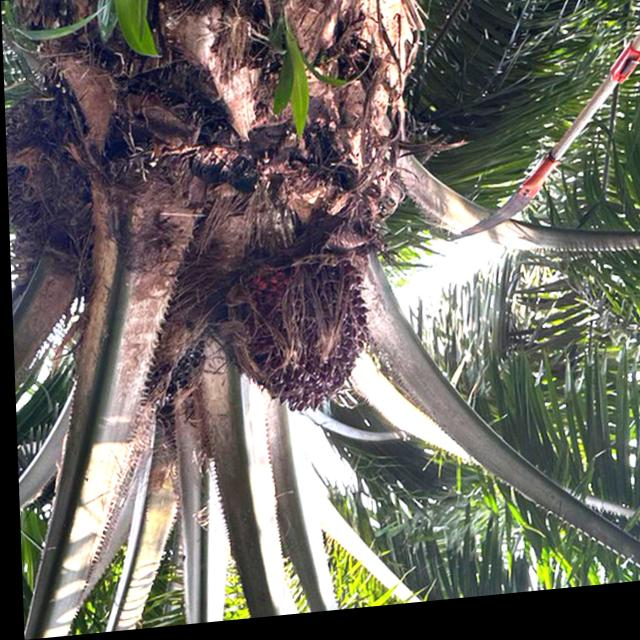ripe: (224, 243, 371, 440)
